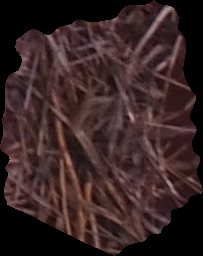soil: (2, 3, 200, 253)
